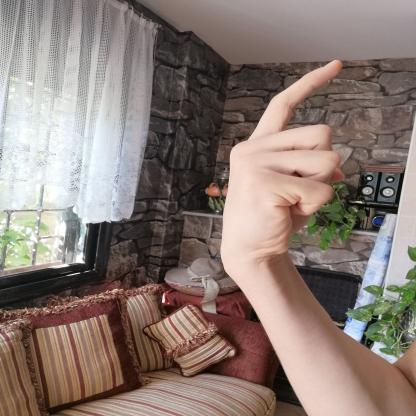RAA: (206, 47, 356, 282)
